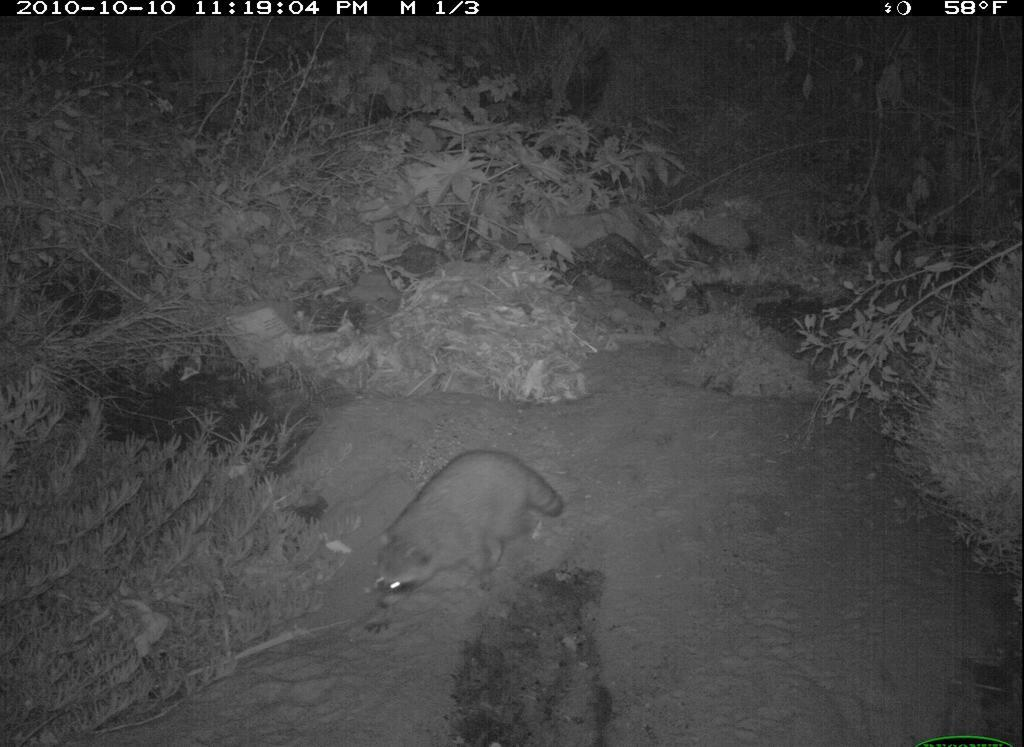raccoon: (347, 437, 573, 609)
